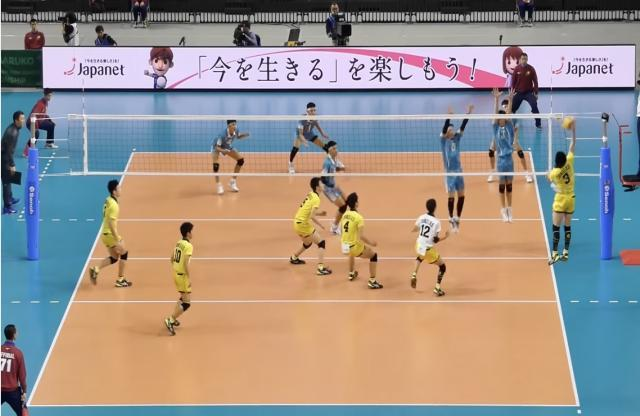spike: (541, 112, 577, 270)
